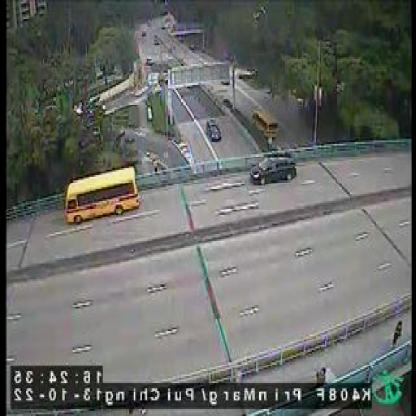Bus: (67, 160, 139, 225)
Car: (250, 151, 297, 186), (205, 118, 223, 141)
